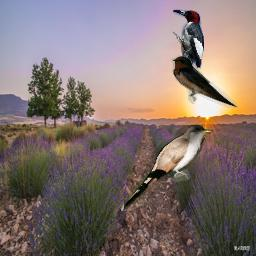Cuckoo: (120, 125, 214, 211)
Swallow: (171, 55, 238, 108)
Woodpecker: (173, 9, 204, 88)
